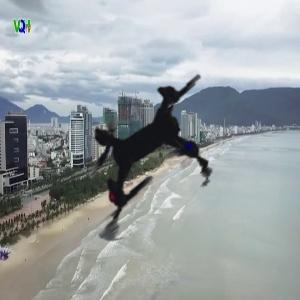drone: (9, 14, 287, 292)
